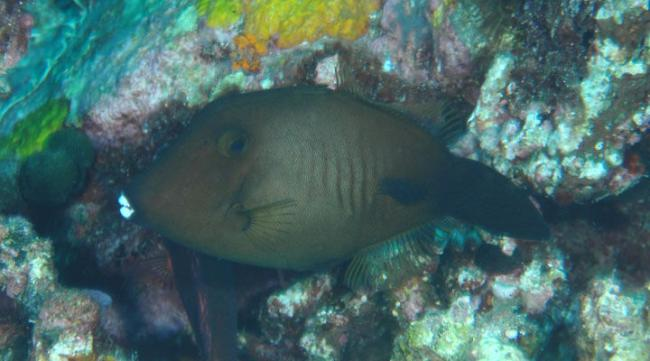fish: (117, 87, 553, 273)
